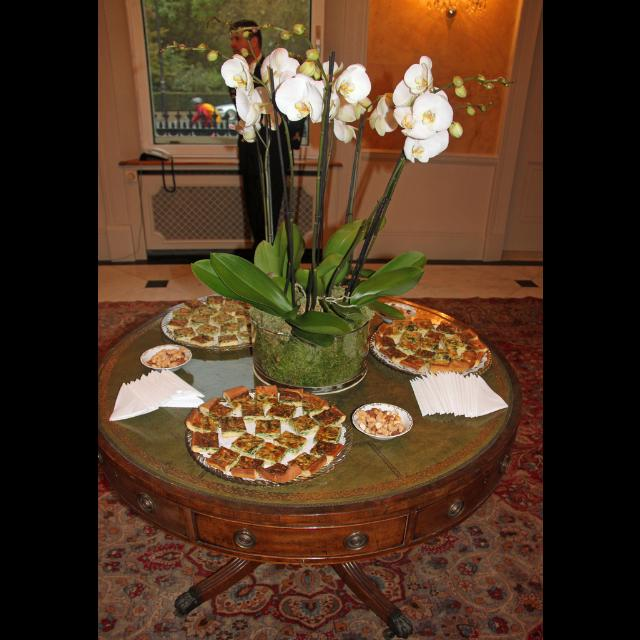Flower: (220, 48, 370, 146), (383, 59, 459, 155)
